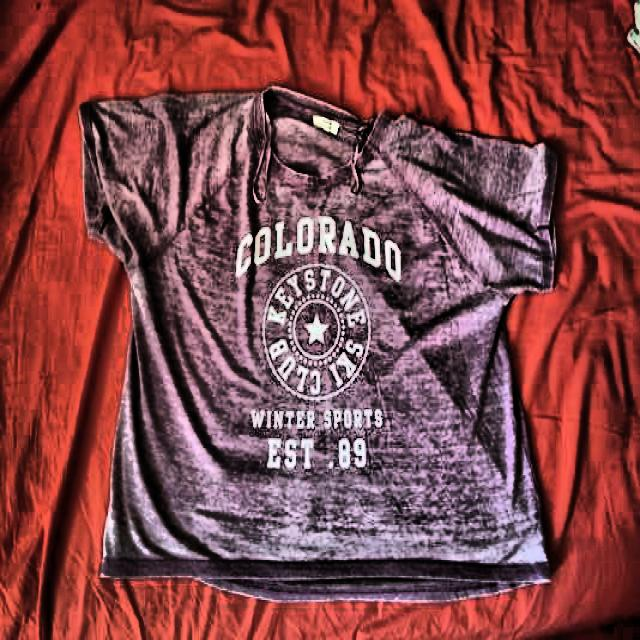clothes: (78, 85, 562, 608)
